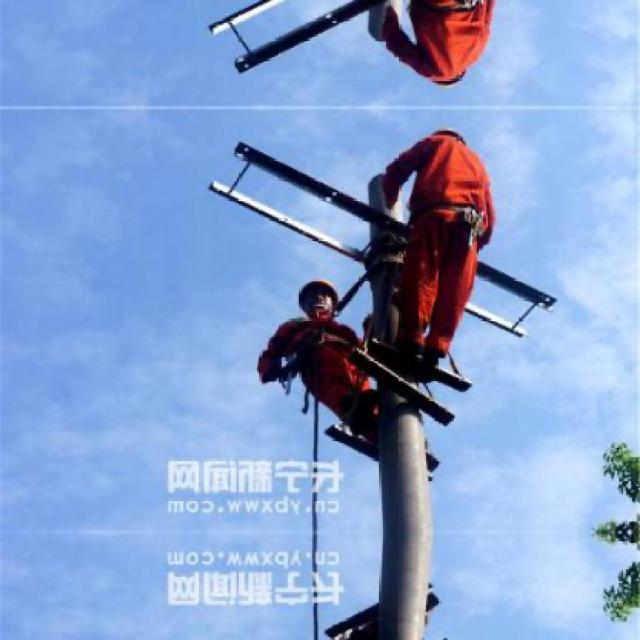helmet: (298, 272, 342, 325)
